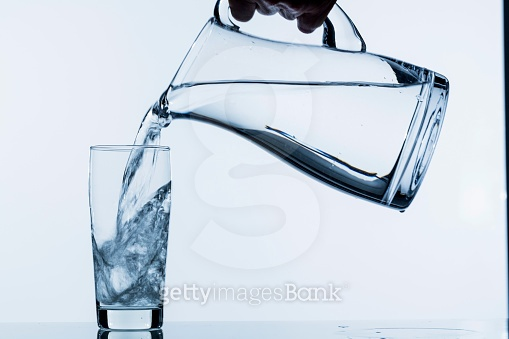glass of water: (142, 15, 450, 213), (80, 133, 179, 339)
